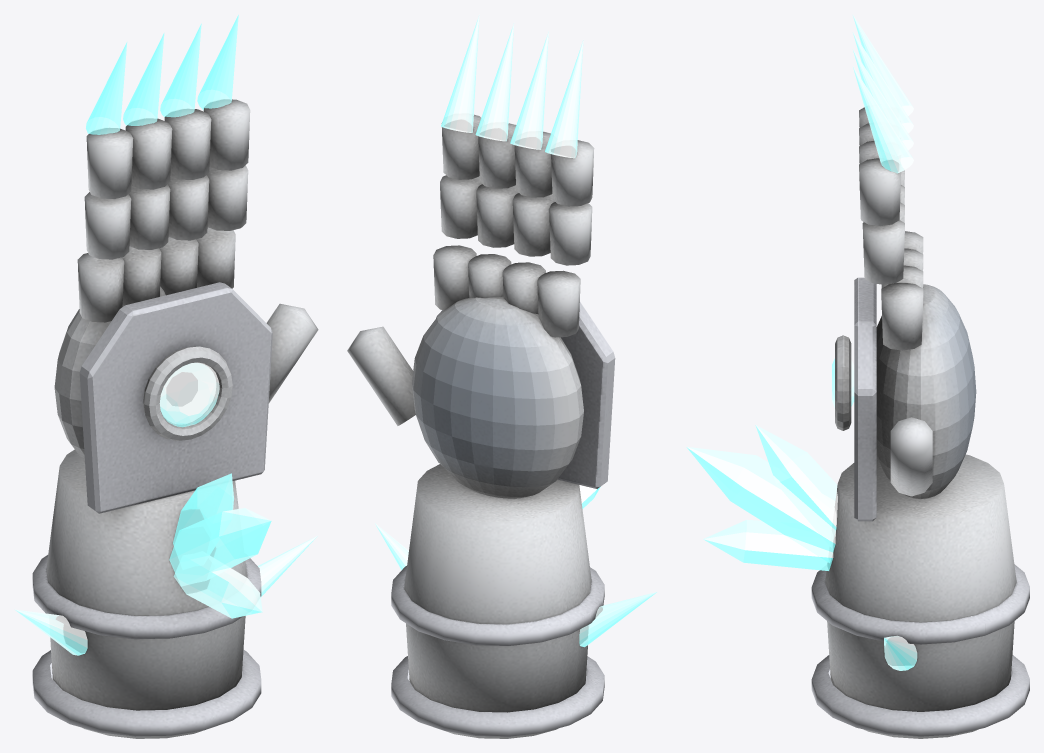
File: arma_lend_manopla_gelo.glb
3 renders of one model, left to right at view 1: azimuth 30°, elevation 25°; view 2: azimuth 150°, elevation 25°; view 3: azimuth 270°, elevation 25°, orthographic. The views are drawn at different scales.
Parts seen in each view (by area): view 1: arma_lend_manopla_gelo, ac_manopla1, ac_manopla2, ac_manopla0, gema_costas, garra3, garra2, garra0, garra1, esp_punho-1, esp_punho1; view 2: arma_lend_manopla_gelo, garra2, garra3, garra0, garra1, esp_punho-1, esp_punho1; view 3: arma_lend_manopla_gelo, ac_manopla1, ac_manopla0, ac_manopla2, garra3, garra1, garra0, garra2, esp_punho1.
Part boxes in pixels (left/top/right/bottom): arma_lend_manopla_gelo: left=32, top=99, right=318, bottom=738; ac_manopla1: left=169, top=508, right=271, bottom=585; ac_manopla2: left=173, top=473, right=233, bottom=561; ac_manopla0: left=173, top=556, right=262, bottom=618; gema_costas: left=159, top=362, right=219, bottom=427; garra3: left=197, top=15, right=238, bottom=110; garra2: left=160, top=23, right=201, bottom=117; garra0: left=86, top=42, right=127, bottom=134; garra1: left=123, top=33, right=164, bottom=125; esp_punho-1: left=15, top=609, right=87, bottom=655; esp_punho1: left=258, top=536, right=317, bottom=597; arma_lend_manopla_gelo: left=347, top=114, right=615, bottom=738; garra2: left=475, top=23, right=514, bottom=141; garra3: left=441, top=14, right=479, bottom=132; garra0: left=545, top=40, right=583, bottom=158; garra1: left=510, top=31, right=548, bottom=149; esp_punho-1: left=579, top=592, right=656, bottom=647; esp_punho1: left=375, top=523, right=408, bottom=570; arma_lend_manopla_gelo: left=811, top=107, right=1029, bottom=738; ac_manopla1: left=686, top=446, right=835, bottom=562; ac_manopla0: left=703, top=519, right=833, bottom=570; ac_manopla2: left=755, top=425, right=837, bottom=540; garra3: left=852, top=66, right=913, bottom=173; garra1: left=853, top=32, right=913, bottom=133; garra0: left=853, top=15, right=913, bottom=115; garra2: left=852, top=49, right=913, bottom=150; esp_punho1: left=884, top=635, right=917, bottom=670.
Size of the model in its own units: 0.1863 by 0.395 by 0.186.
11 materials, 1 textured.
